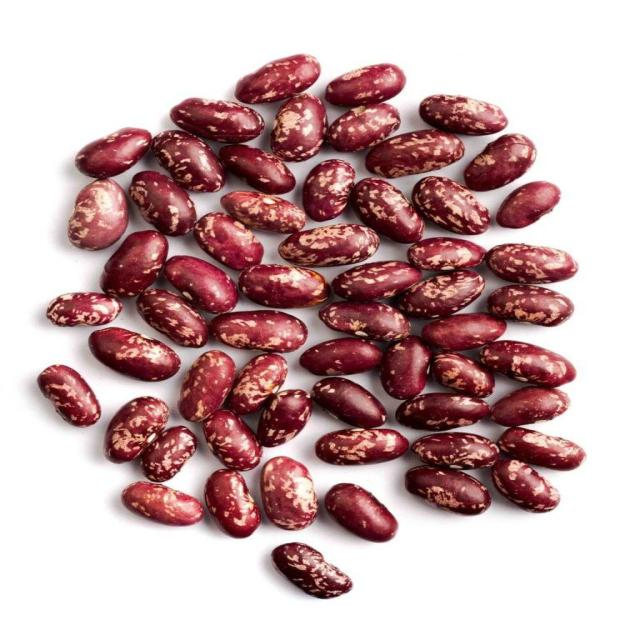frijoles: (21, 46, 608, 606)
